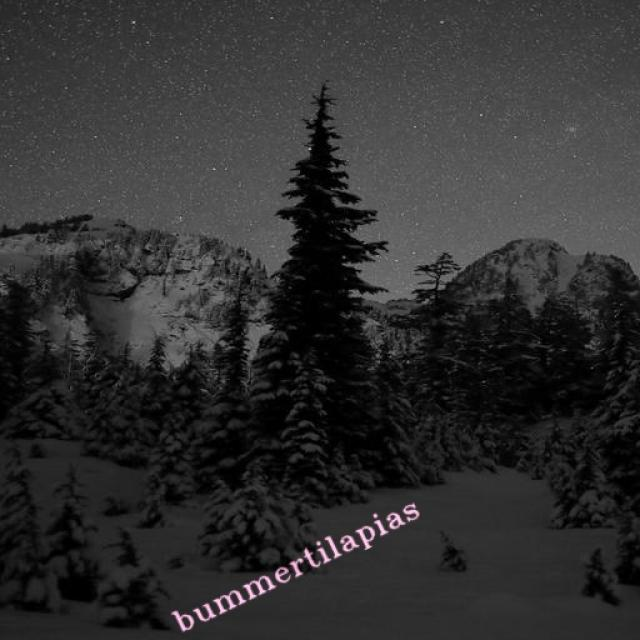watermark: (171, 491, 421, 638)
